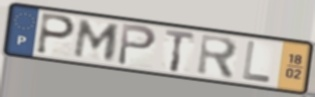L: (240, 39, 273, 85)
M: (71, 18, 123, 63)
P: (115, 22, 159, 68), (34, 11, 77, 57)
R: (195, 32, 240, 82)
T: (163, 27, 197, 74)
